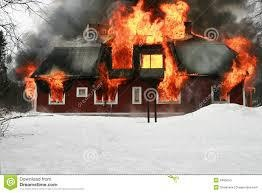fire: (103, 0, 193, 99), (222, 33, 258, 90), (20, 63, 68, 103)
